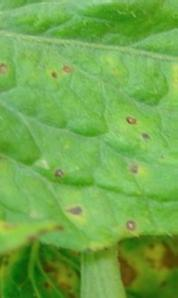Tomato leaf bacterial spot: (0, 0, 178, 296)
